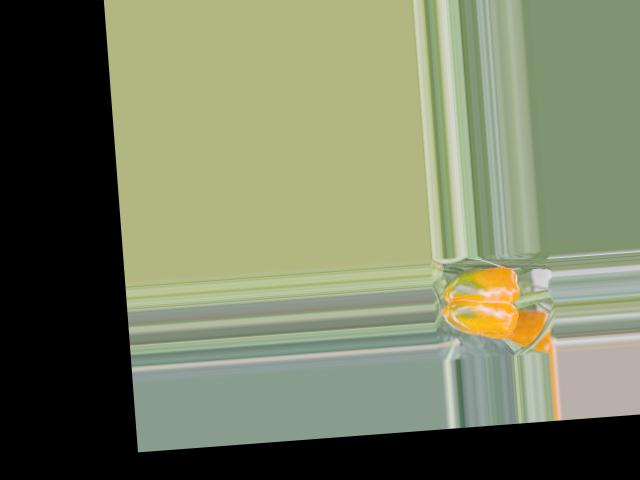bell_pepper: (432, 255, 532, 346)
